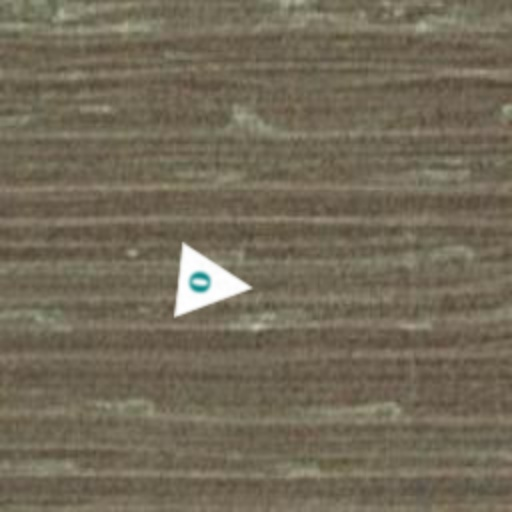triangle: (174, 242, 258, 326)
